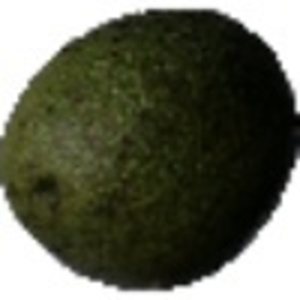abacate: (1, 6, 295, 291)
